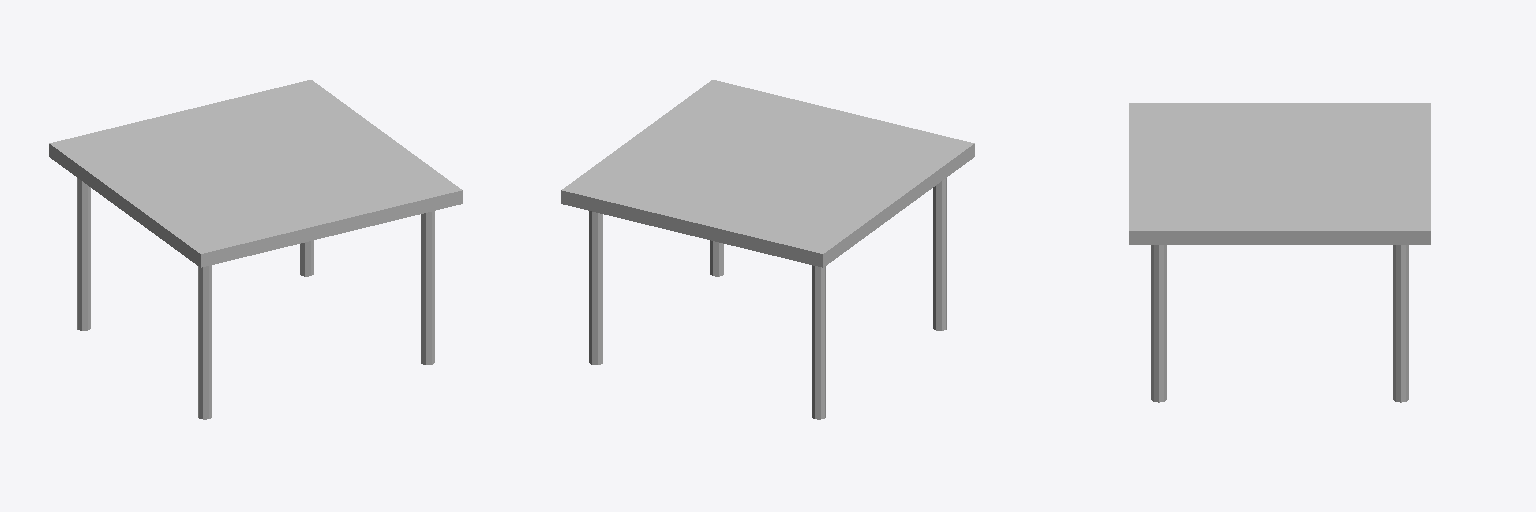
File: squareTable.obj
3 views of the same model, side by side, from view 1: azimuth 30°, elevation 25°; view 2: azimuth 150°, elevation 25°; view 3: azimuth 270°, elevation 25° (orthographic).
Visible parts, largest first — view 1: Plateau, Pied_1, Pied, Pied_2; view 2: Plateau, Pied_2, Pied_3, Pied_1; view 3: Plateau, Pied, Pied_3.
Boxes of the visible parts, x1,y1,x2,y2 form: Plateau: [49, 80, 462, 267]; Pied_1: [198, 265, 211, 419]; Pied: [421, 211, 434, 364]; Pied_2: [77, 178, 90, 330]; Plateau: [561, 80, 974, 267]; Pied_2: [812, 265, 825, 419]; Pied_3: [589, 211, 602, 364]; Pied_1: [933, 178, 946, 330]; Plateau: [1129, 103, 1430, 244]; Pied: [1151, 245, 1166, 402]; Pied_3: [1393, 245, 1408, 402].
Size of the model in its own units: 2 by 1.3 by 2.